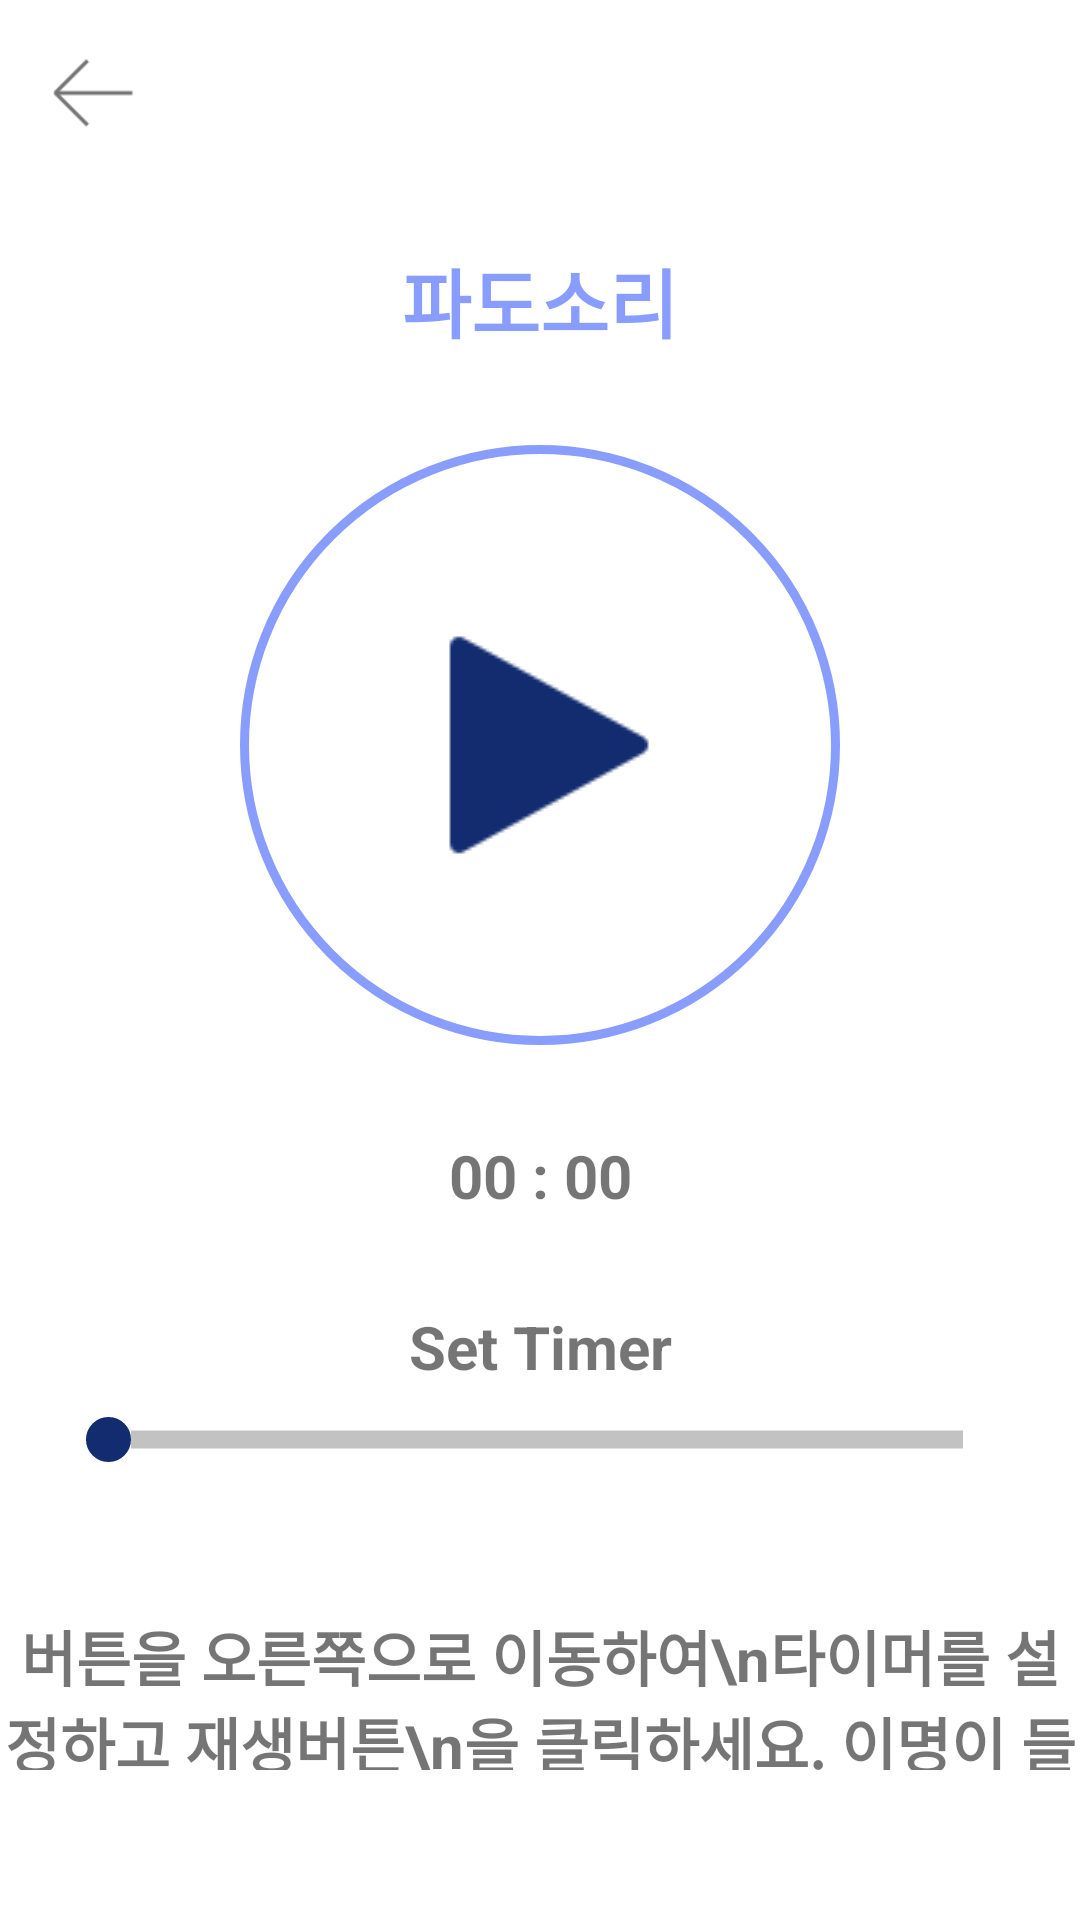

Point at icon controls on the screen. Image size 1080 x 1920, points as point (x, y).
pageback: point (93, 93)
